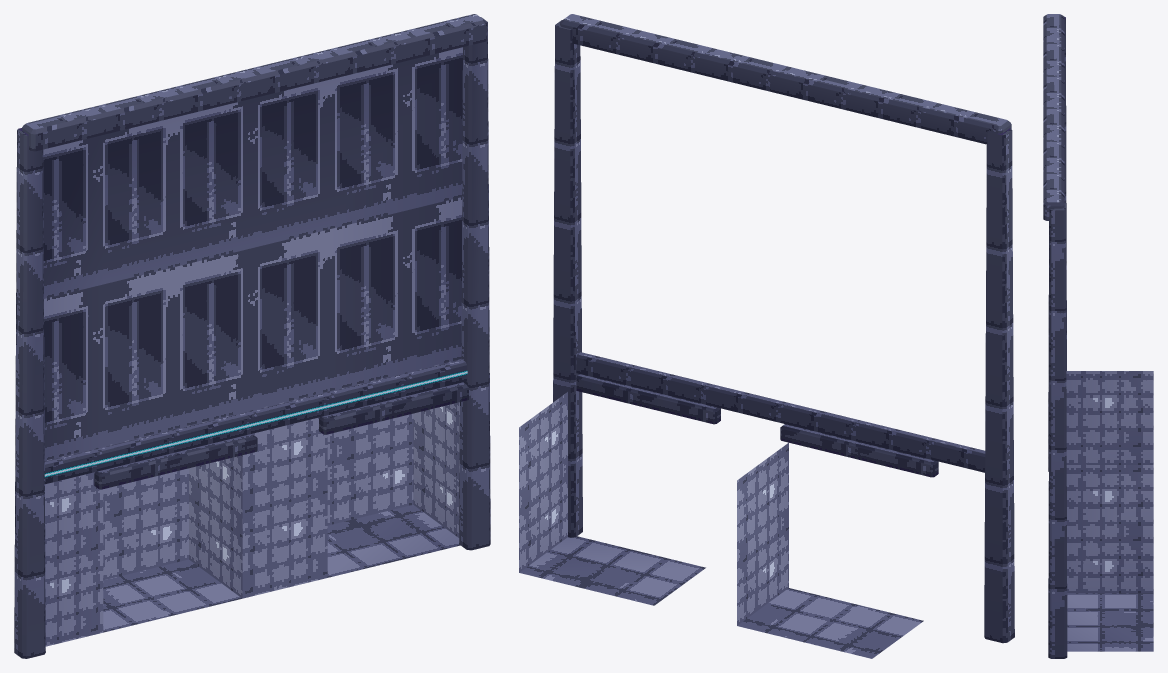
File: cytower.facade__shops.glb
3 views of the same model, side by side, from view 1: azimuth 30°, elevation 25°; view 2: azimuth 150°, elevation 25°; view 3: azimuth 270°, elevation 25° (orthographic). The views are drawn at different scales.
Parts seen in each view (by area): view 1: kit_shell_front, kit_trim, kit_card_windows; view 2: kit_trim, kit_shell_front; view 3: kit_shell_front, kit_trim.
Boxes of the visible parts, x1,y1,x2,y2 form: kit_shell_front: (43, 47, 462, 646); kit_trim: (14, 14, 490, 658); kit_card_windows: (44, 370, 467, 477); kit_trim: (553, 14, 1014, 643); kit_shell_front: (519, 392, 923, 658); kit_shell_front: (1066, 371, 1153, 651); kit_trim: (1043, 14, 1067, 658).
Size of the model in its own units: 12.12 by 13.05 by 2.88.
8 materials, 8 textured.
